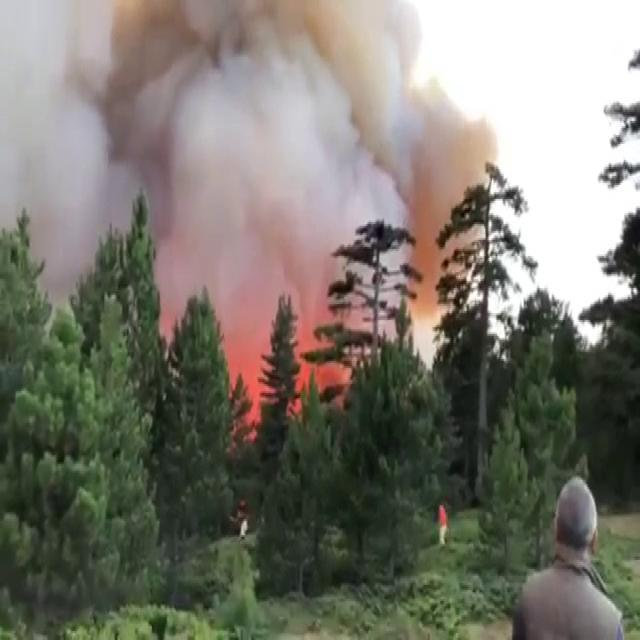Fire: (194, 275, 332, 409)
Smoke: (14, 0, 418, 198), (4, 6, 189, 368), (347, 8, 526, 324)
